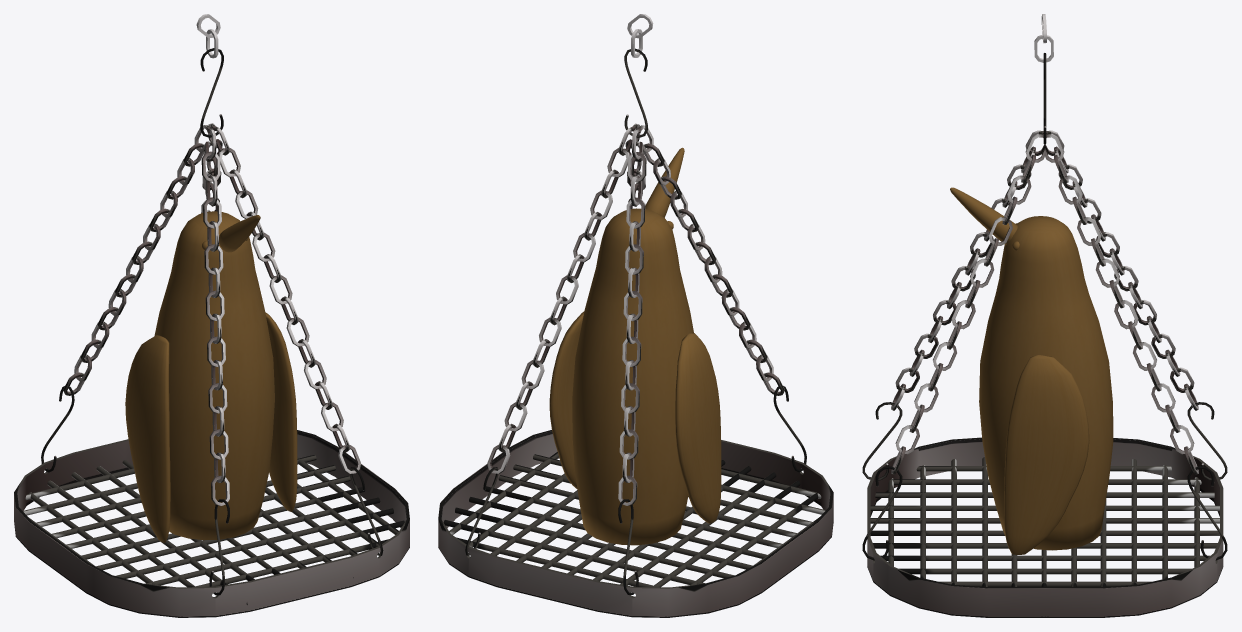
The model's file is 5_rihuto.fbx.
3 renders of one model, left to right at view 1: azimuth 30°, elevation 25°; view 2: azimuth 150°, elevation 25°; view 3: azimuth 270°, elevation 25°, orthographic.
Parts seen in each view (by area): view 1: rihutoP_S; view 2: rihutoP_S; view 3: rihutoP_S.
Boxes of the visible parts, left/top/right/bottom form: rihutoP_S: left=14, top=14, right=409, bottom=617; rihutoP_S: left=438, top=14, right=833, bottom=617; rihutoP_S: left=862, top=14, right=1227, bottom=617.
Bounding box in the file's own units: 58.65 × 94.69 × 59.76.
Materials: 3 (3 with a texture image).
